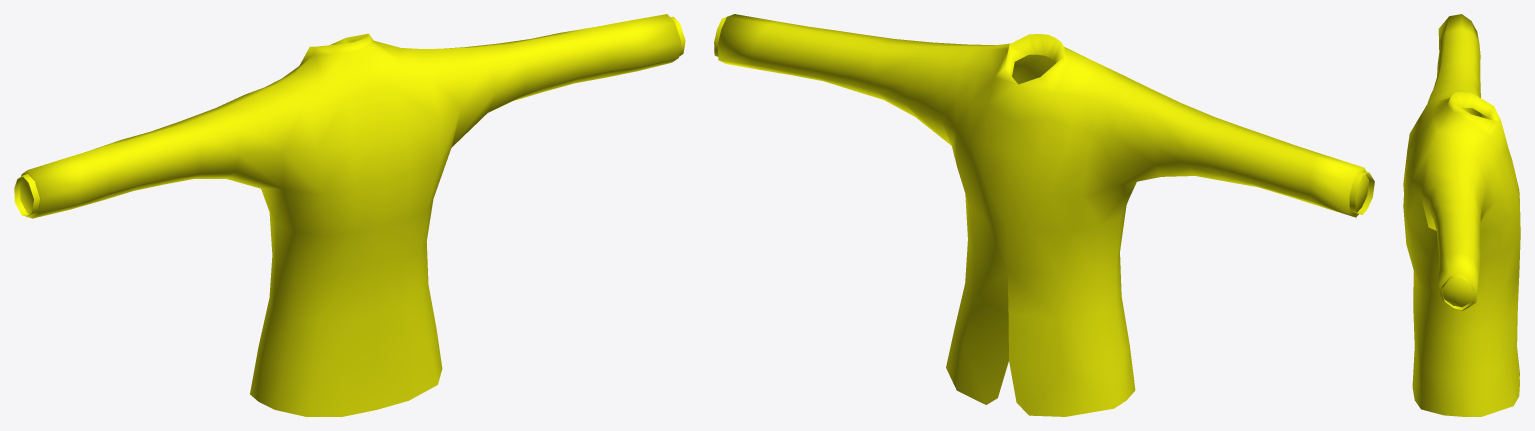
File: yellow rainjacket.fbx
3 views of the same model, side by side, from view 1: azimuth 30°, elevation 25°; view 2: azimuth 150°, elevation 25°; view 3: azimuth 270°, elevation 25° (orthographic). The views are drawn at different scales.
Visible parts, largest first — view 1: Suit_Mesh; view 2: Suit_Mesh; view 3: Suit_Mesh.
Boxes of the visible parts, bbox=[...] form: Suit_Mesh: bbox=[14, 14, 685, 416]; Suit_Mesh: bbox=[714, 14, 1374, 416]; Suit_Mesh: bbox=[1403, 14, 1520, 416].
Size of the model in its own units: 41.73 by 21.5 by 7.88.
